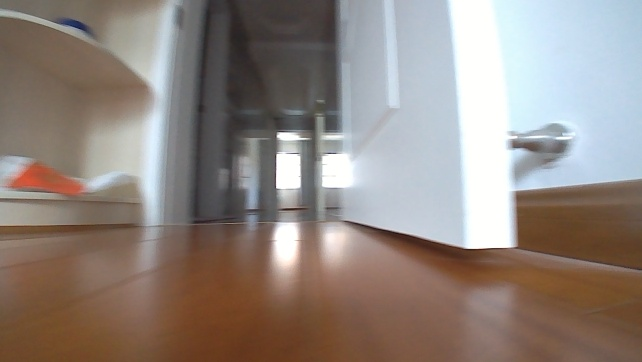door_anno: (327, 0, 519, 252)
